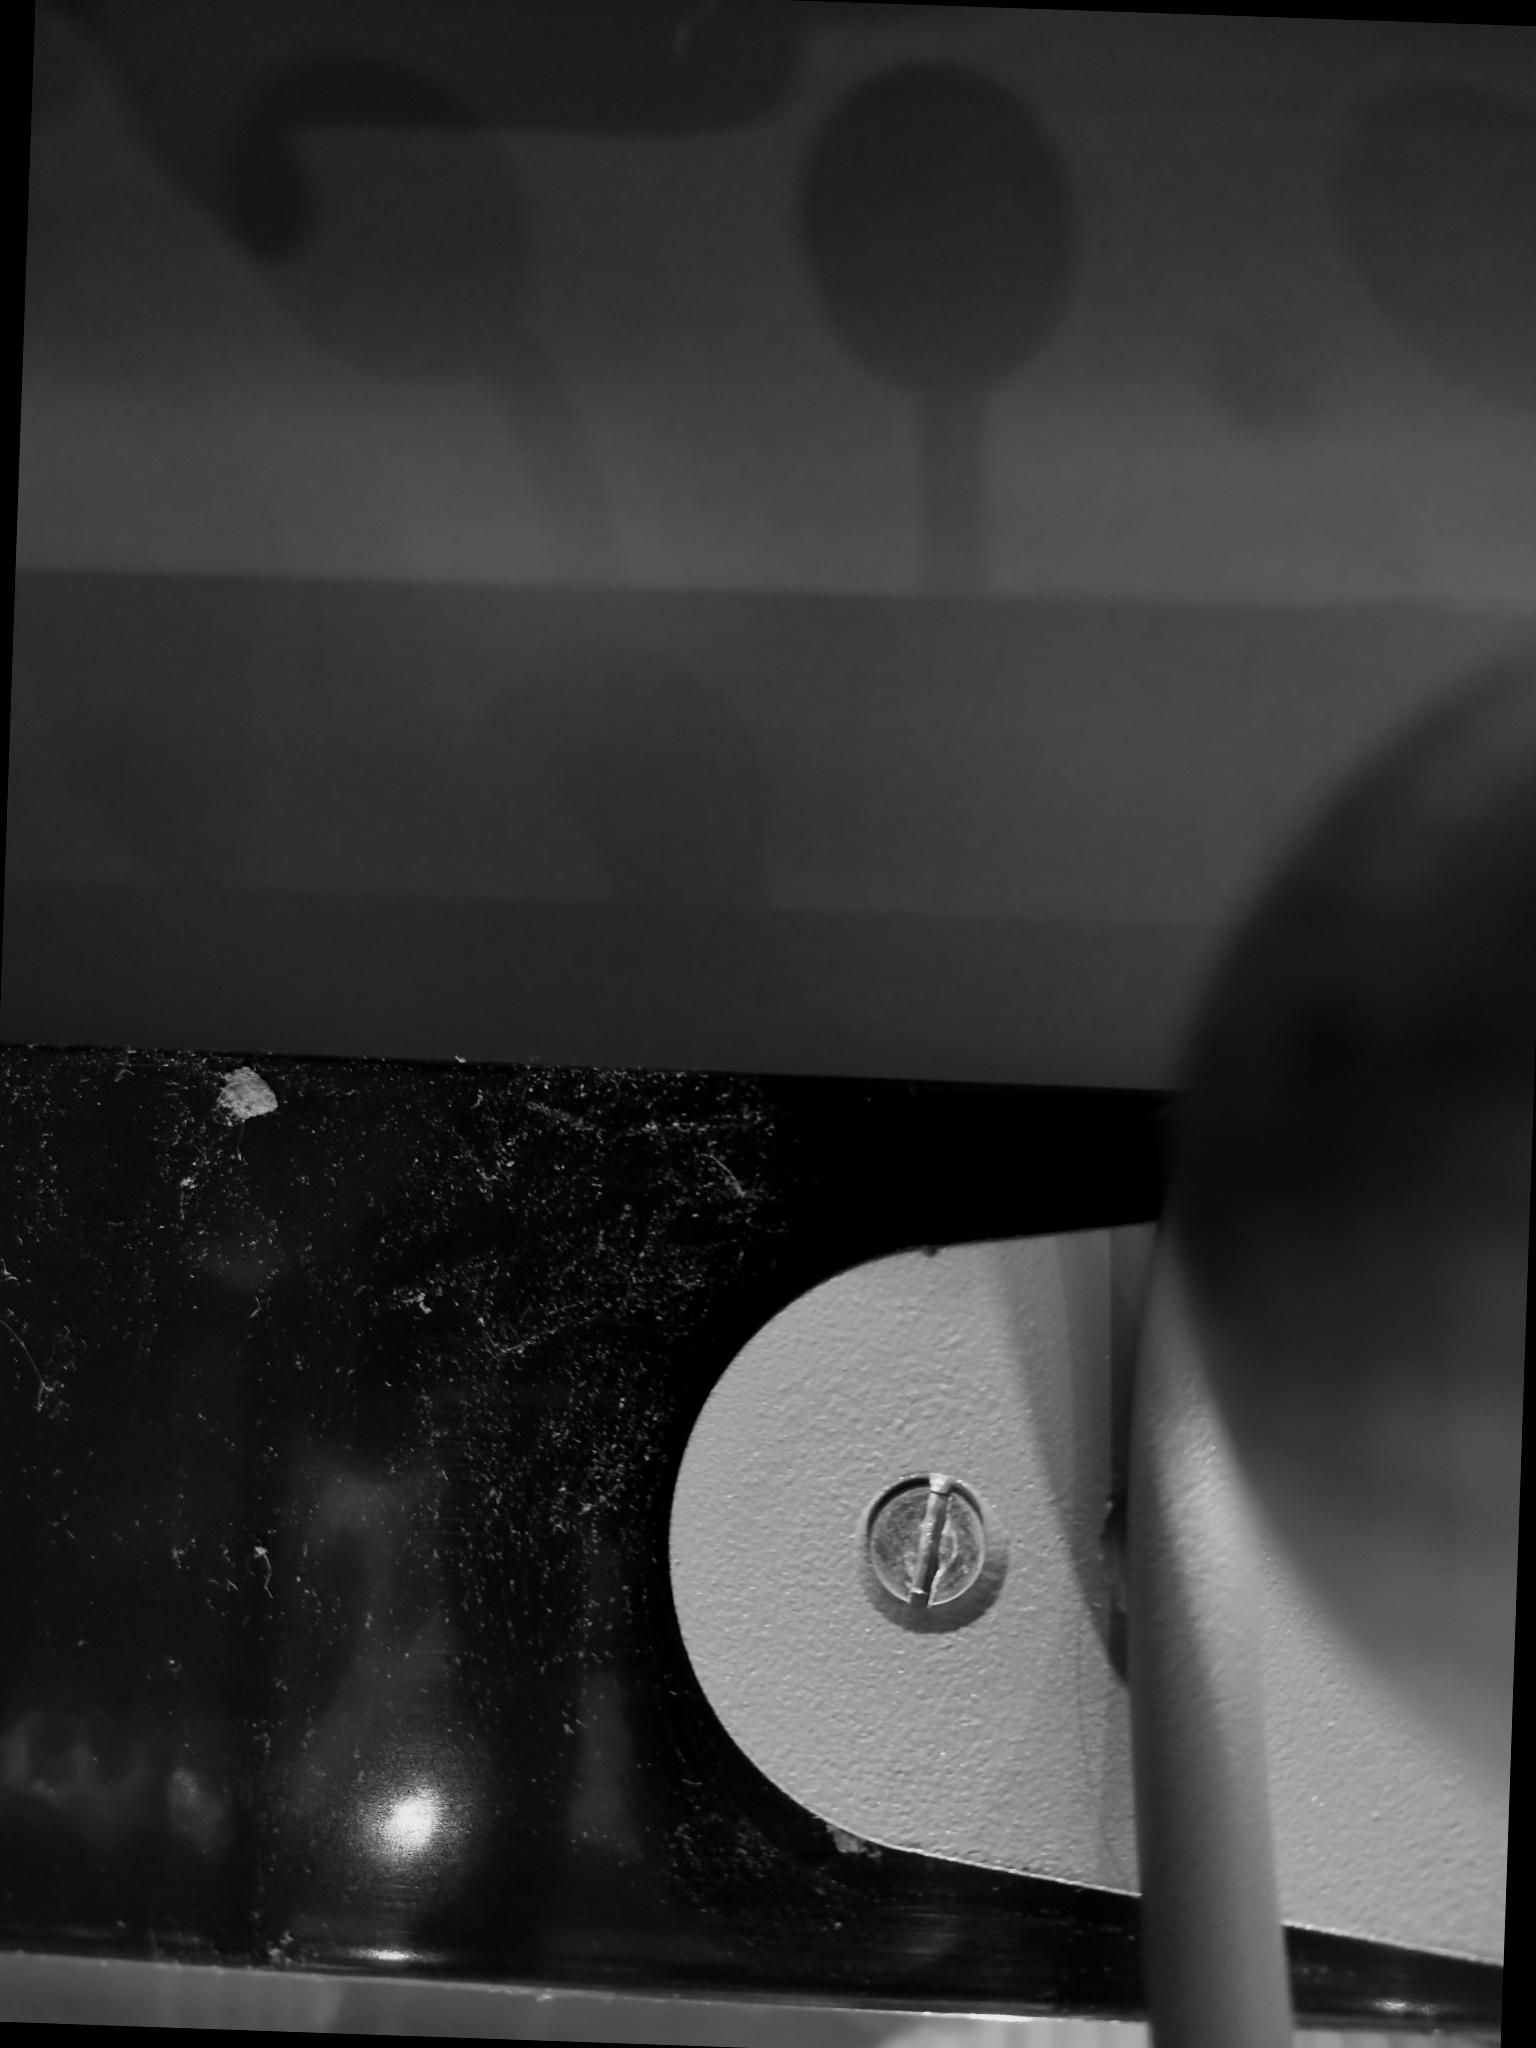screw: (854, 1472, 1007, 1622)
